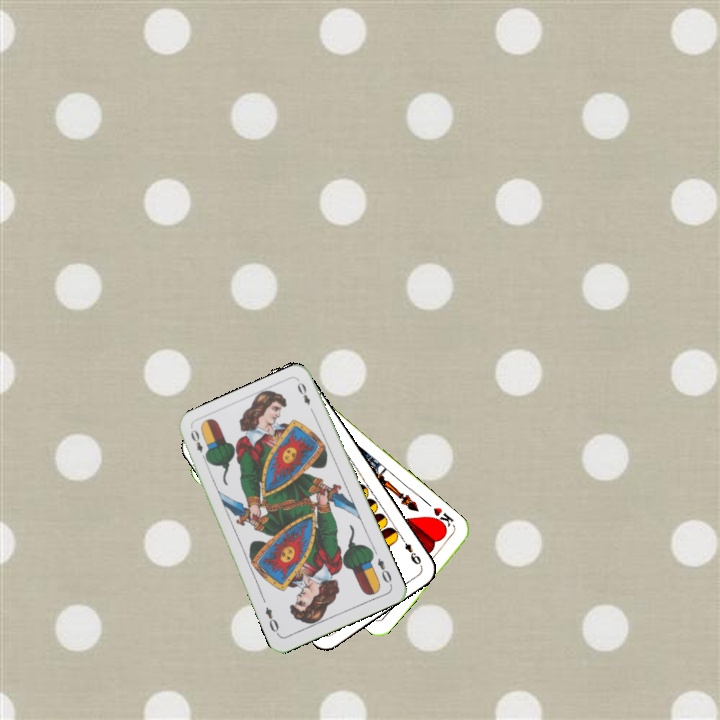E9: (397, 533, 424, 568)
EO: (186, 425, 211, 464), (373, 554, 395, 588)
HK: (428, 503, 458, 532)
